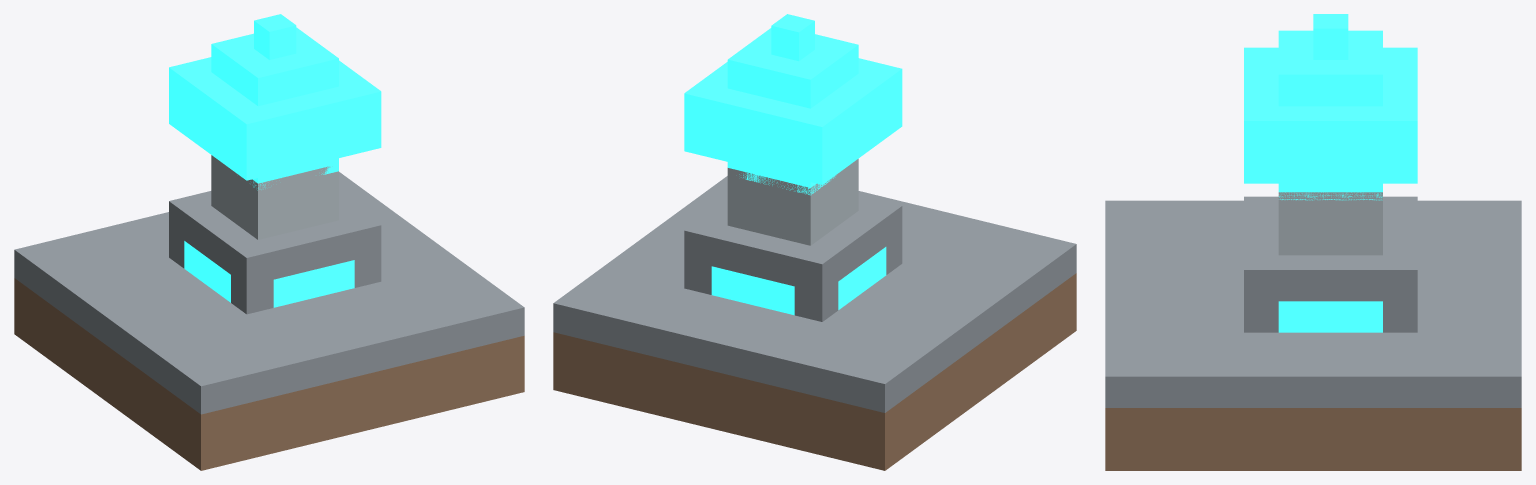
File: idea.glb
3 renders of one model, left to right at view 1: azimuth 30°, elevation 25°; view 2: azimuth 150°, elevation 25°; view 3: azimuth 270°, elevation 25°, orthographic. The views are drawn at different scales.
Parts seen in each view (by area): view 1: VX_idea, ANIM_crystal_pulse; view 2: VX_idea, ANIM_crystal_pulse; view 3: VX_idea, ANIM_crystal_pulse.
Boxes of the visible parts, <box> form: VX_idea: <box>14,155,524,470</box>; ANIM_crystal_pulse: <box>169,14,381,190</box>; VX_idea: <box>553,159,1076,470</box>; ANIM_crystal_pulse: <box>684,14,902,195</box>; VX_idea: <box>1105,192,1521,470</box>; ANIM_crystal_pulse: <box>1244,14,1417,200</box>.
Size of the model in its own units: 3.24 by 3.17 by 3.24.
